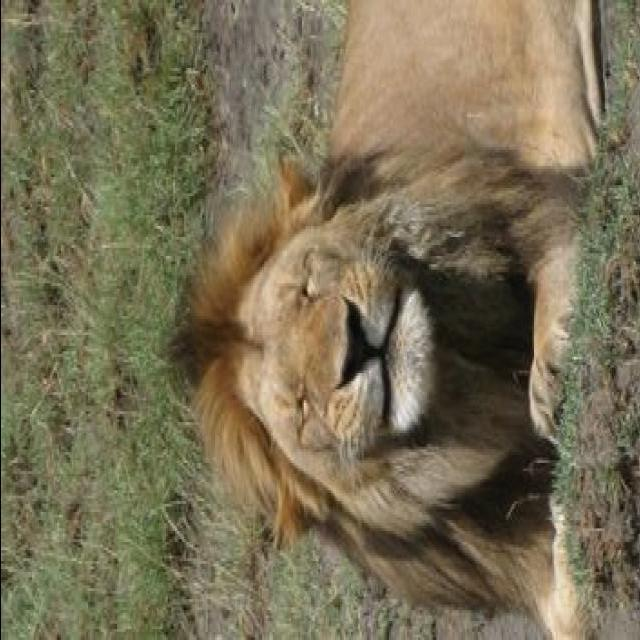lions: (55, 39, 640, 640)
